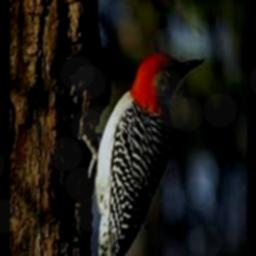Woodpecker: (83, 51, 204, 256)
